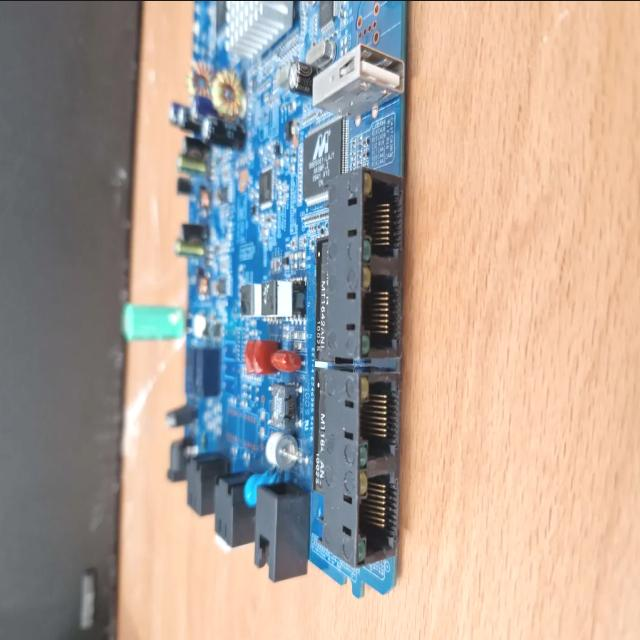A: (212, 70, 246, 117), (188, 62, 212, 100)
C: (204, 116, 246, 148), (290, 64, 320, 96)
